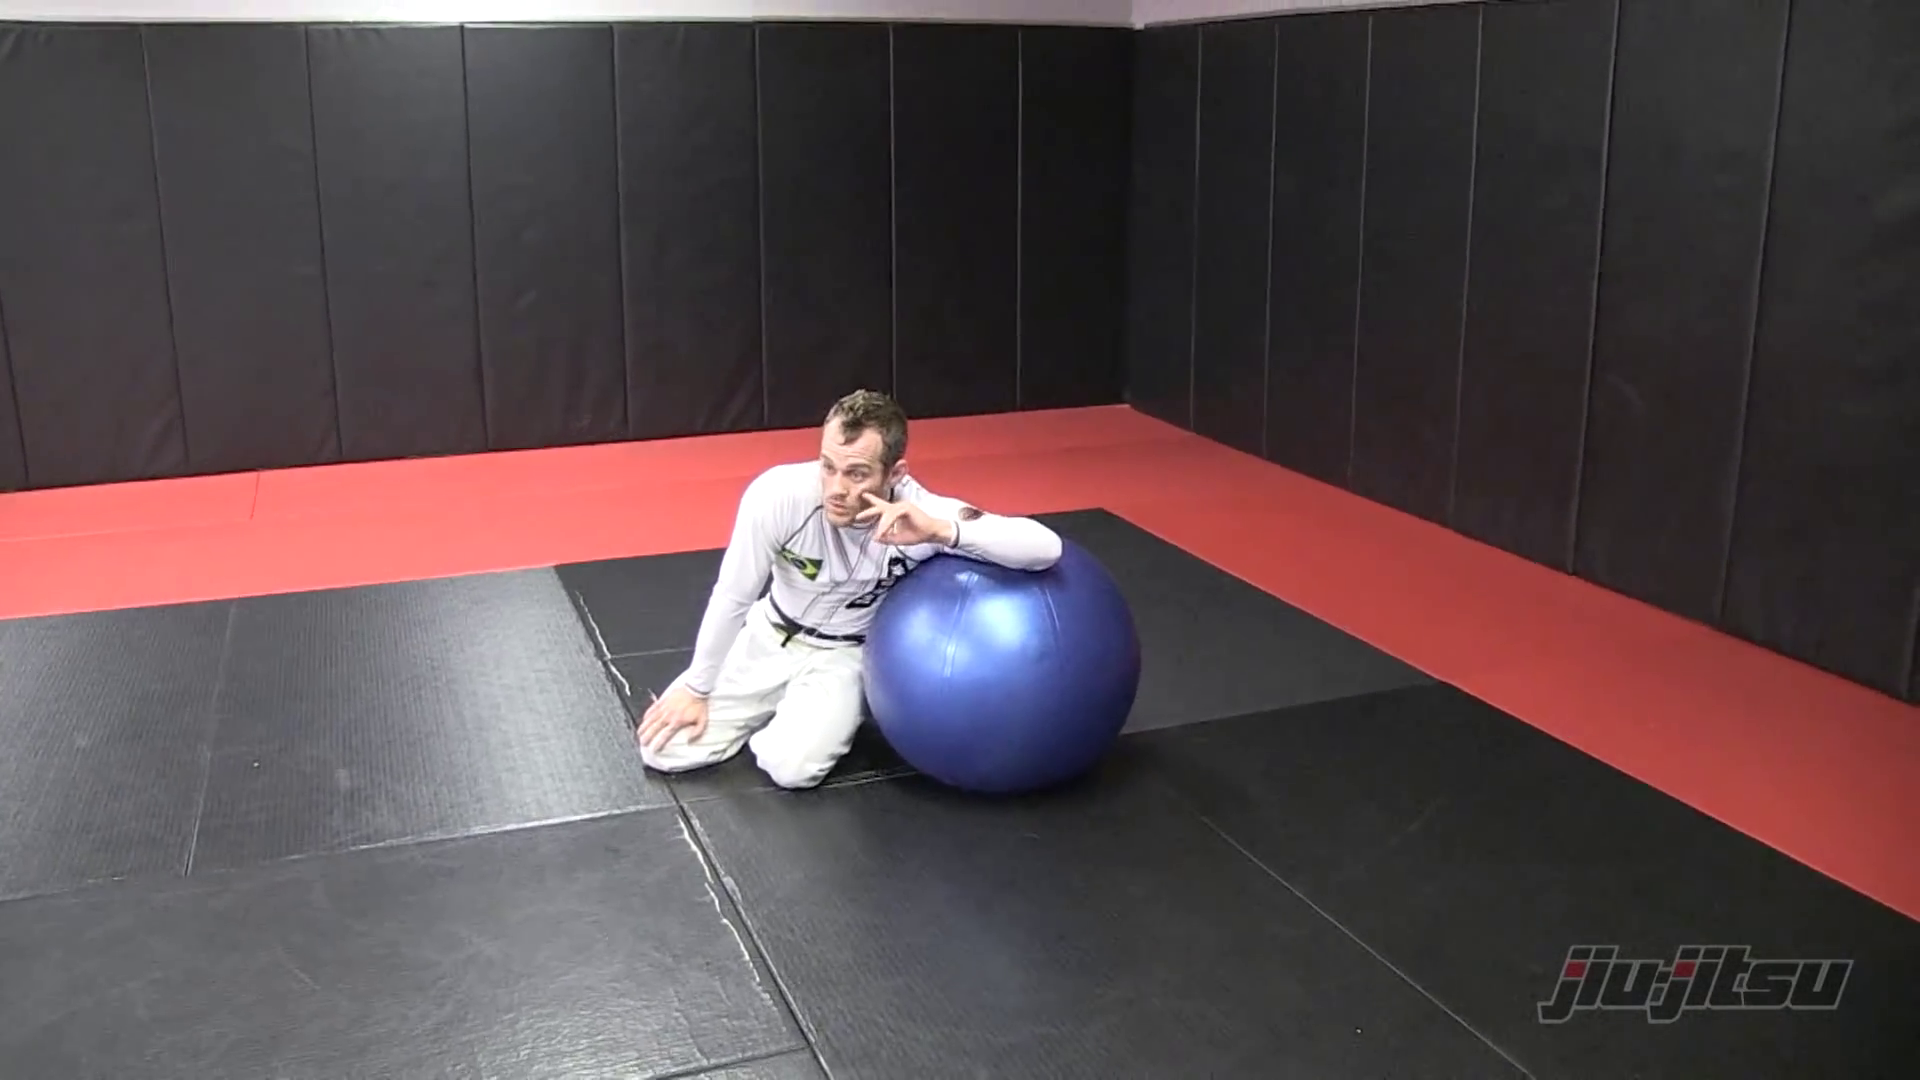yogaball: (857, 546, 1156, 816)
